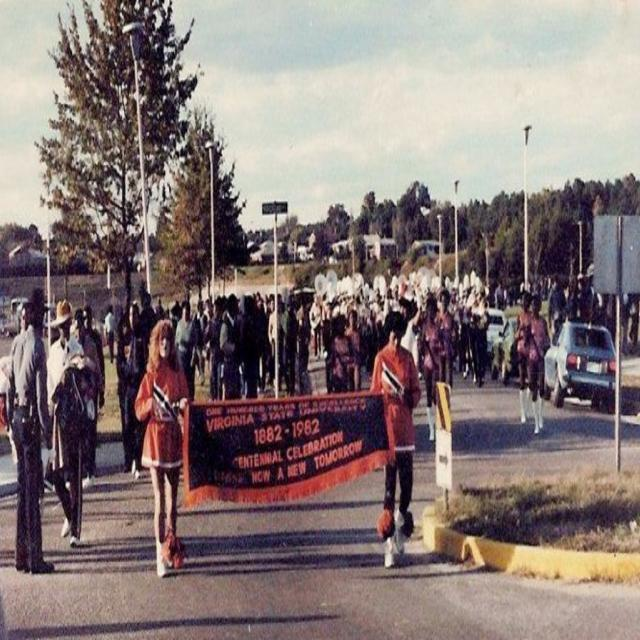car: (547, 317, 622, 407)
